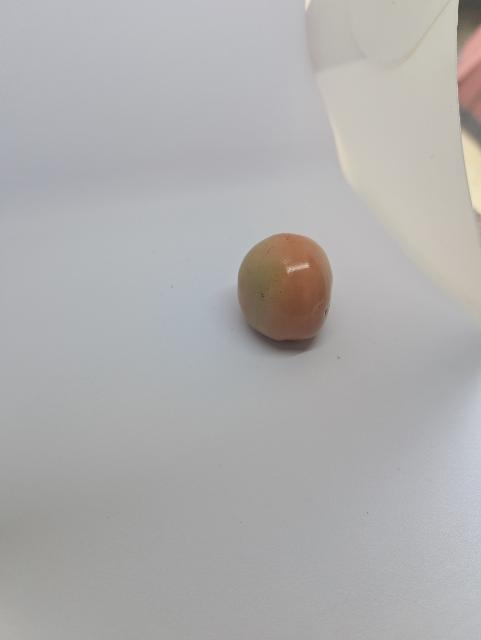turning: (229, 226, 347, 352)
